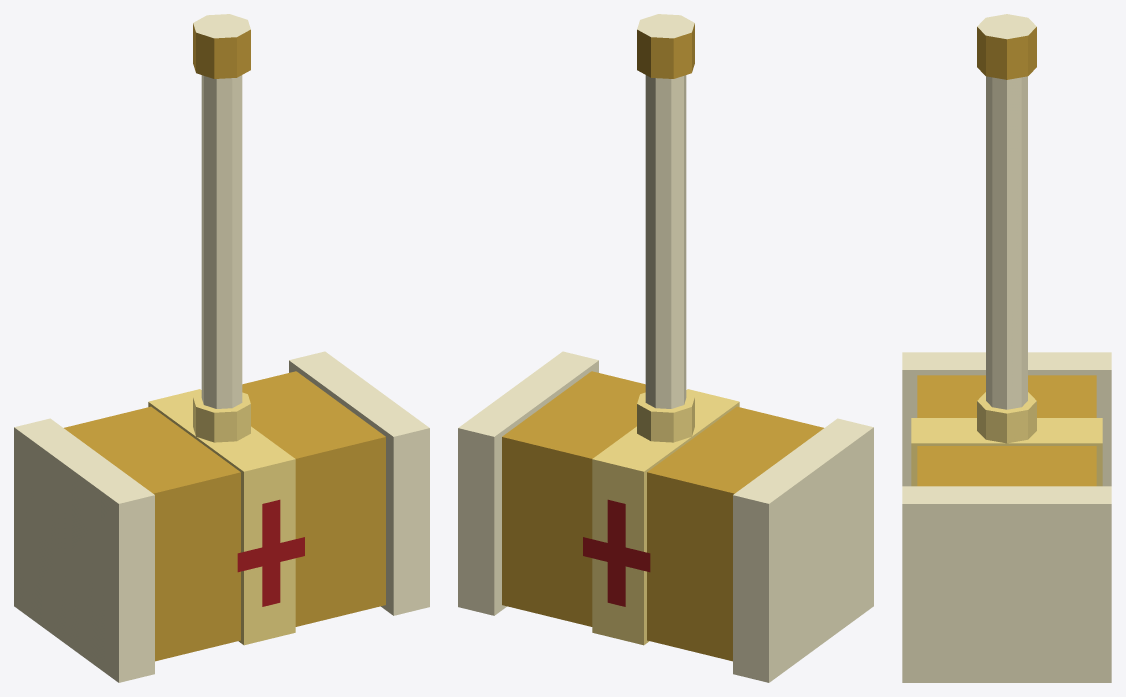
Rendered from crusade_hammer.glb.
3 views of the same model, side by side, from view 1: azimuth 30°, elevation 25°; view 2: azimuth 150°, elevation 25°; view 3: azimuth 270°, elevation 25° (orthographic).
Visible parts, largest first — view 1: crusade_hammer; view 2: crusade_hammer; view 3: crusade_hammer.
Part boxes in pixels (left/top/right/bottom): crusade_hammer: left=14, top=14, right=429, bottom=682; crusade_hammer: left=458, top=14, right=873, bottom=682; crusade_hammer: left=902, top=14, right=1111, bottom=682.
Size of the model in its own units: 1.2 by 2.14 by 0.7.
Materials: 1 (1 with a texture image).
